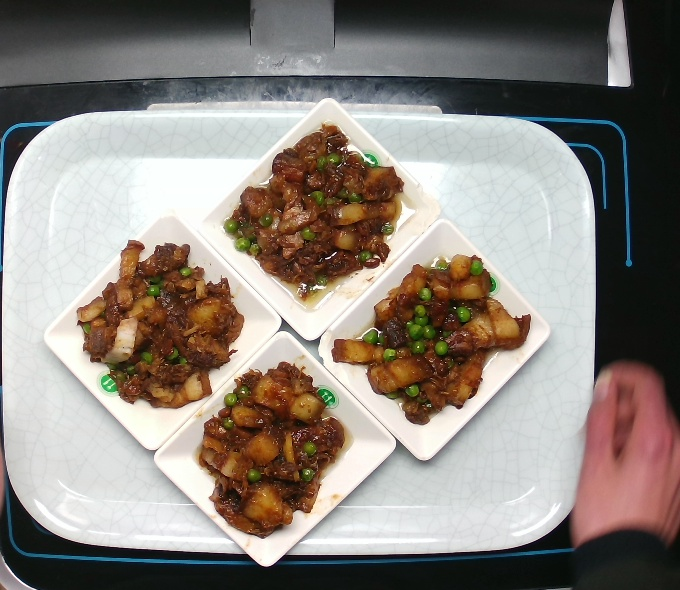wcq-JiangRou: (328, 246, 534, 421), (221, 121, 412, 291), (76, 235, 249, 408), (193, 358, 347, 539)
